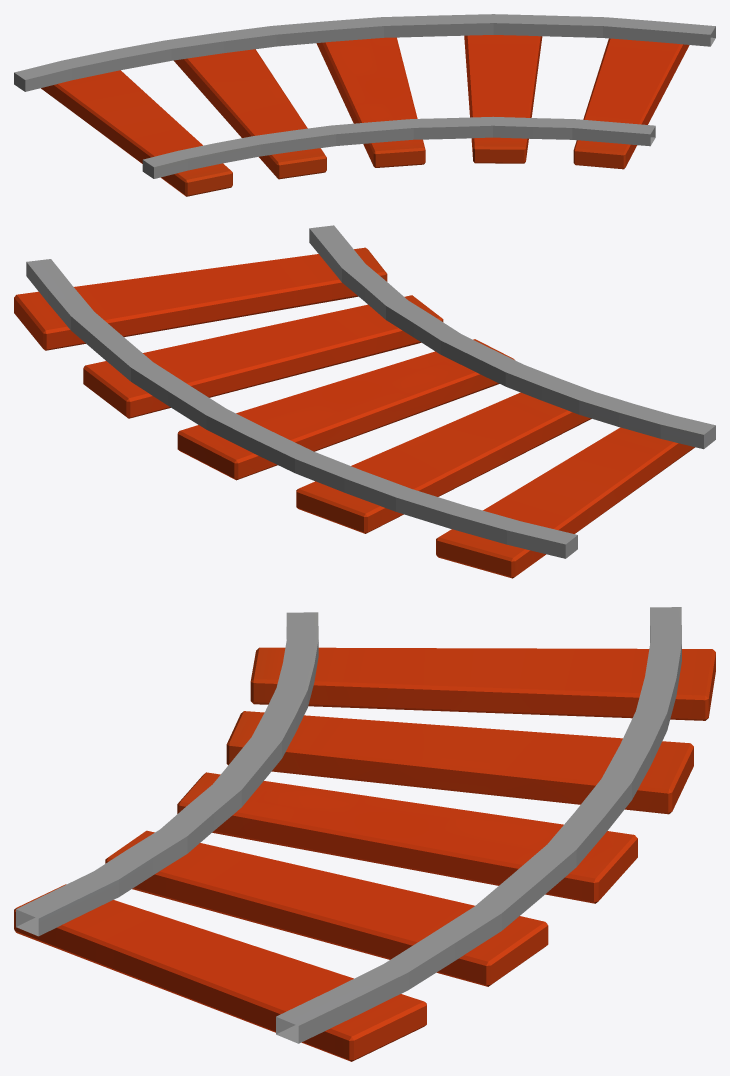
The model's file is StraitTrack45.fbx.
The picture shows the model from 3 angles, top to bottom: view 1: azimuth 30°, elevation 25°; view 2: azimuth 150°, elevation 25°; view 3: azimuth 270°, elevation 25°; orthographic projection. The views are drawn at different scales.
Parts seen in each view (by area): view 1: CurvedTrack45, Cube.001; view 2: CurvedTrack45, Cube.001; view 3: CurvedTrack45, Cube.001.
Part boxes in pixels (box(x1,y1,x2,y2)): CurvedTrack45: box(41, 35, 689, 196); Cube.001: box(14, 14, 715, 178); CurvedTrack45: box(14, 247, 694, 578); Cube.001: box(26, 225, 715, 558); CurvedTrack45: box(14, 647, 715, 1061); Cube.001: box(16, 607, 681, 1043).
Bounding box in the file's own units: 4.96 × 0.2369 × 3.51.
